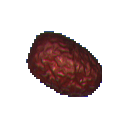gd: (19, 17, 113, 118)
